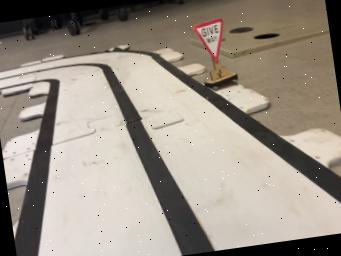give_way: (192, 18, 237, 89), (192, 18, 237, 89), (192, 18, 237, 89)
street: (14, 48, 341, 256), (14, 48, 341, 256), (14, 48, 341, 256)
